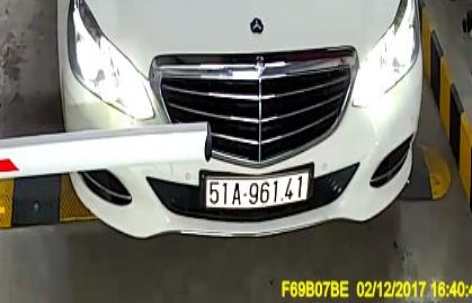plate: (201, 168, 314, 208)
